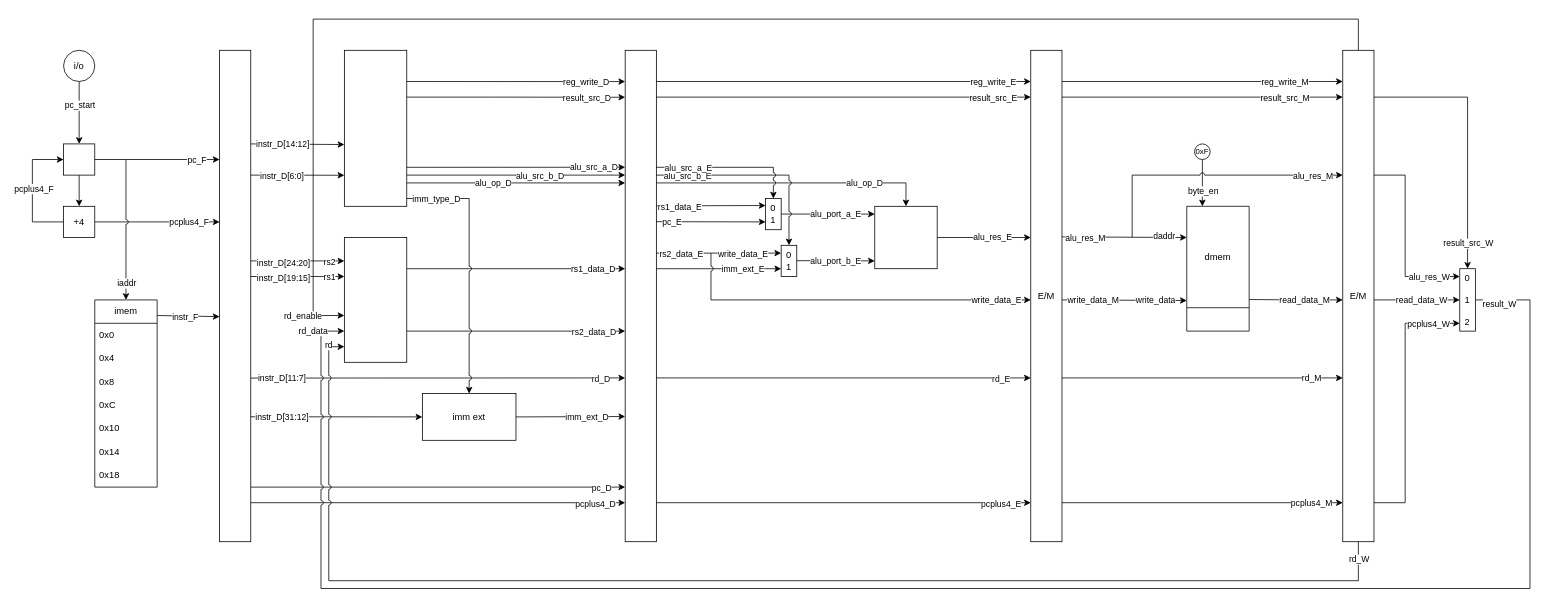
This 1550x608 diagram has some shape labels left out. Here are the shapes that lost their labels. From the top down, the centre of each, then its label:
the point at 375,128: control unit
the point at 79,159: PC
the point at 905,237: ALU
the point at 235,296: F/D
the point at 375,299: register file
the point at 640,296: D/E
